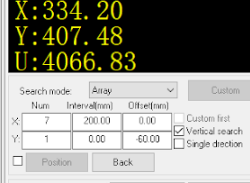timer: (122, 98, 172, 150)
